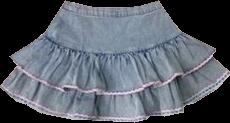Hemline: (0, 72, 229, 122), (9, 50, 215, 96)
Waistline: (42, 31, 183, 55), (64, 0, 159, 8)
